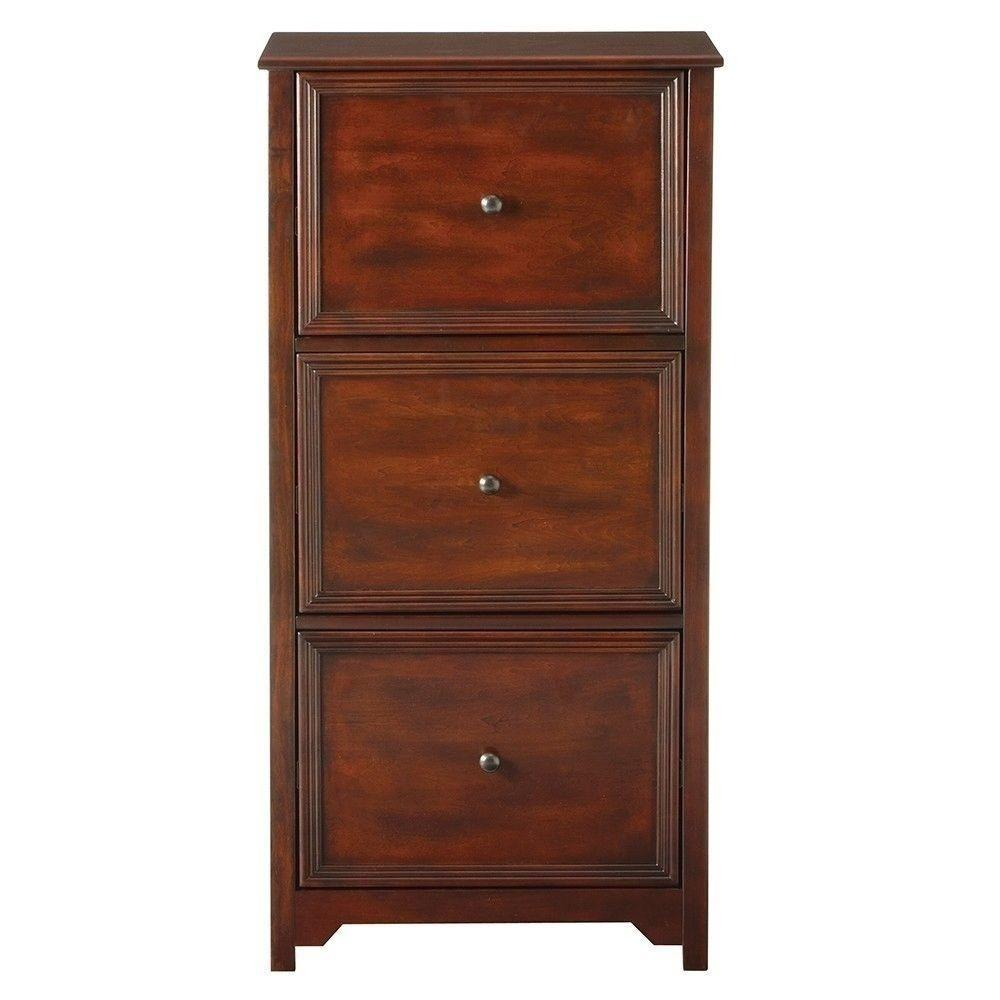cabinet_door: (303, 359, 671, 605), (303, 631, 669, 878), (316, 78, 669, 317)
handle: (477, 185, 510, 233), (477, 461, 507, 510), (476, 741, 506, 787)
